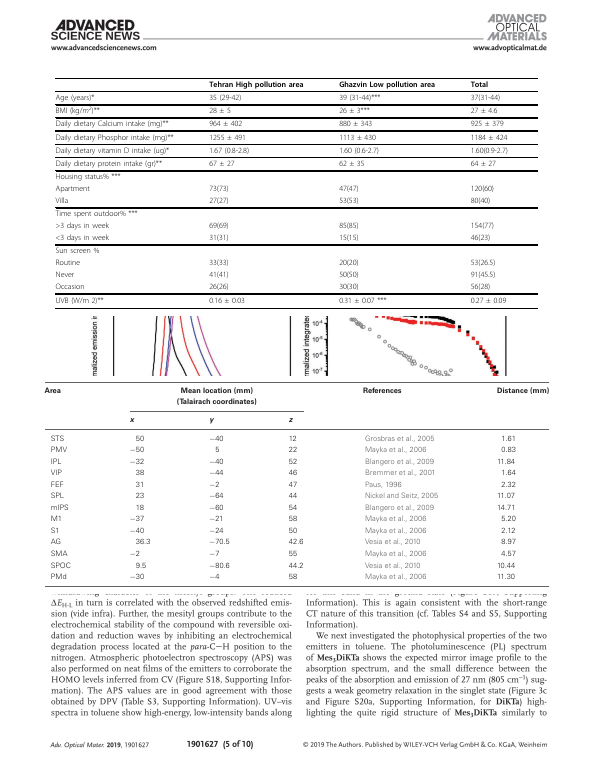borderless: (54, 76, 538, 308), (44, 381, 549, 586)
cell: (176, 387, 258, 407), (55, 133, 175, 142), (55, 159, 163, 169), (55, 120, 170, 129), (55, 146, 170, 155), (338, 80, 436, 89), (208, 80, 304, 89), (55, 210, 138, 219), (364, 492, 439, 501), (55, 172, 121, 182), (364, 470, 436, 479), (364, 435, 435, 444), (364, 458, 435, 467), (364, 504, 435, 513), (364, 527, 427, 536), (364, 550, 427, 559), (364, 573, 427, 582), (55, 233, 110, 243), (54, 105, 101, 116), (364, 539, 421, 548), (364, 562, 421, 571), (364, 447, 427, 455), (364, 516, 427, 524), (55, 222, 110, 231), (55, 296, 104, 305), (338, 296, 387, 305), (496, 387, 550, 395), (338, 93, 381, 103), (54, 93, 95, 103), (55, 247, 100, 256), (208, 146, 250, 155), (338, 146, 380, 155), (55, 184, 91, 194), (208, 133, 247, 142), (338, 133, 377, 142), (470, 146, 509, 155), (364, 481, 403, 490), (470, 133, 508, 142), (208, 296, 246, 305), (208, 93, 242, 103), (470, 296, 507, 305), (338, 106, 371, 116), (362, 387, 403, 395), (208, 120, 243, 129), (338, 120, 373, 129), (470, 120, 505, 129), (470, 93, 501, 103), (470, 106, 498, 116), (208, 159, 235, 169), (338, 159, 365, 169), (470, 159, 497, 169), (55, 283, 85, 292), (470, 184, 495, 194), (208, 106, 232, 116), (55, 259, 81, 268), (470, 259, 496, 268), (470, 271, 496, 280), (470, 222, 495, 231), (208, 184, 230, 194), (208, 196, 230, 206), (208, 233, 230, 243), (338, 184, 359, 194), (338, 196, 359, 206), (470, 196, 491, 206), (338, 233, 359, 243), (470, 233, 491, 243), (208, 539, 231, 548), (208, 562, 231, 571), (208, 222, 230, 231), (208, 259, 230, 268), (208, 271, 230, 280), (208, 283, 230, 292), (50, 562, 72, 571), (338, 222, 359, 231), (338, 259, 359, 268), (338, 271, 359, 280), (338, 283, 359, 292), (470, 283, 491, 292), (55, 271, 75, 280), (496, 458, 516, 467), (496, 492, 516, 501), (50, 504, 70, 513), (496, 504, 516, 513), (496, 562, 516, 571), (496, 573, 516, 582), (470, 80, 489, 89), (50, 550, 68, 559), (50, 573, 68, 582), (208, 435, 225, 444), (500, 435, 517, 444), (208, 458, 225, 467), (208, 470, 225, 479), (500, 470, 517, 479), (500, 481, 517, 490), (208, 492, 225, 501), (208, 504, 225, 513), (208, 516, 225, 525), (208, 527, 225, 536), (500, 539, 517, 548), (500, 550, 517, 559), (43, 387, 62, 395), (50, 447, 68, 455), (129, 458, 145, 467), (129, 516, 145, 525), (129, 527, 145, 536), (500, 527, 516, 536), (135, 539, 151, 548), (288, 539, 304, 548), (288, 562, 304, 571), (129, 573, 145, 582), (55, 196, 69, 206), (500, 447, 517, 455), (500, 516, 517, 524), (50, 435, 65, 444), (50, 481, 65, 490), (50, 492, 65, 501), (129, 447, 145, 455), (50, 458, 63, 467), (50, 470, 63, 479), (50, 516, 63, 525), (208, 481, 220, 490), (50, 539, 62, 548), (129, 550, 141, 559), (208, 550, 220, 559), (135, 562, 147, 571), (208, 573, 220, 582), (135, 435, 145, 444), (288, 435, 298, 444), (288, 458, 298, 467), (135, 470, 145, 479), (288, 470, 298, 479), (135, 481, 145, 490), (288, 481, 298, 490), (135, 492, 145, 501), (288, 492, 298, 501), (135, 504, 145, 513), (288, 504, 298, 513), (288, 516, 298, 525), (50, 527, 60, 536), (288, 527, 298, 536), (288, 550, 298, 559), (288, 573, 298, 582), (288, 447, 298, 455), (214, 447, 220, 455), (129, 418, 135, 425), (208, 418, 214, 425), (288, 418, 293, 425)
